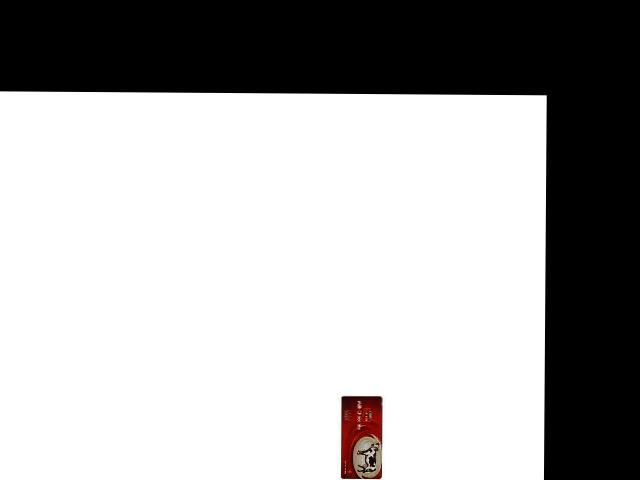chocolate: (338, 393, 382, 478)
